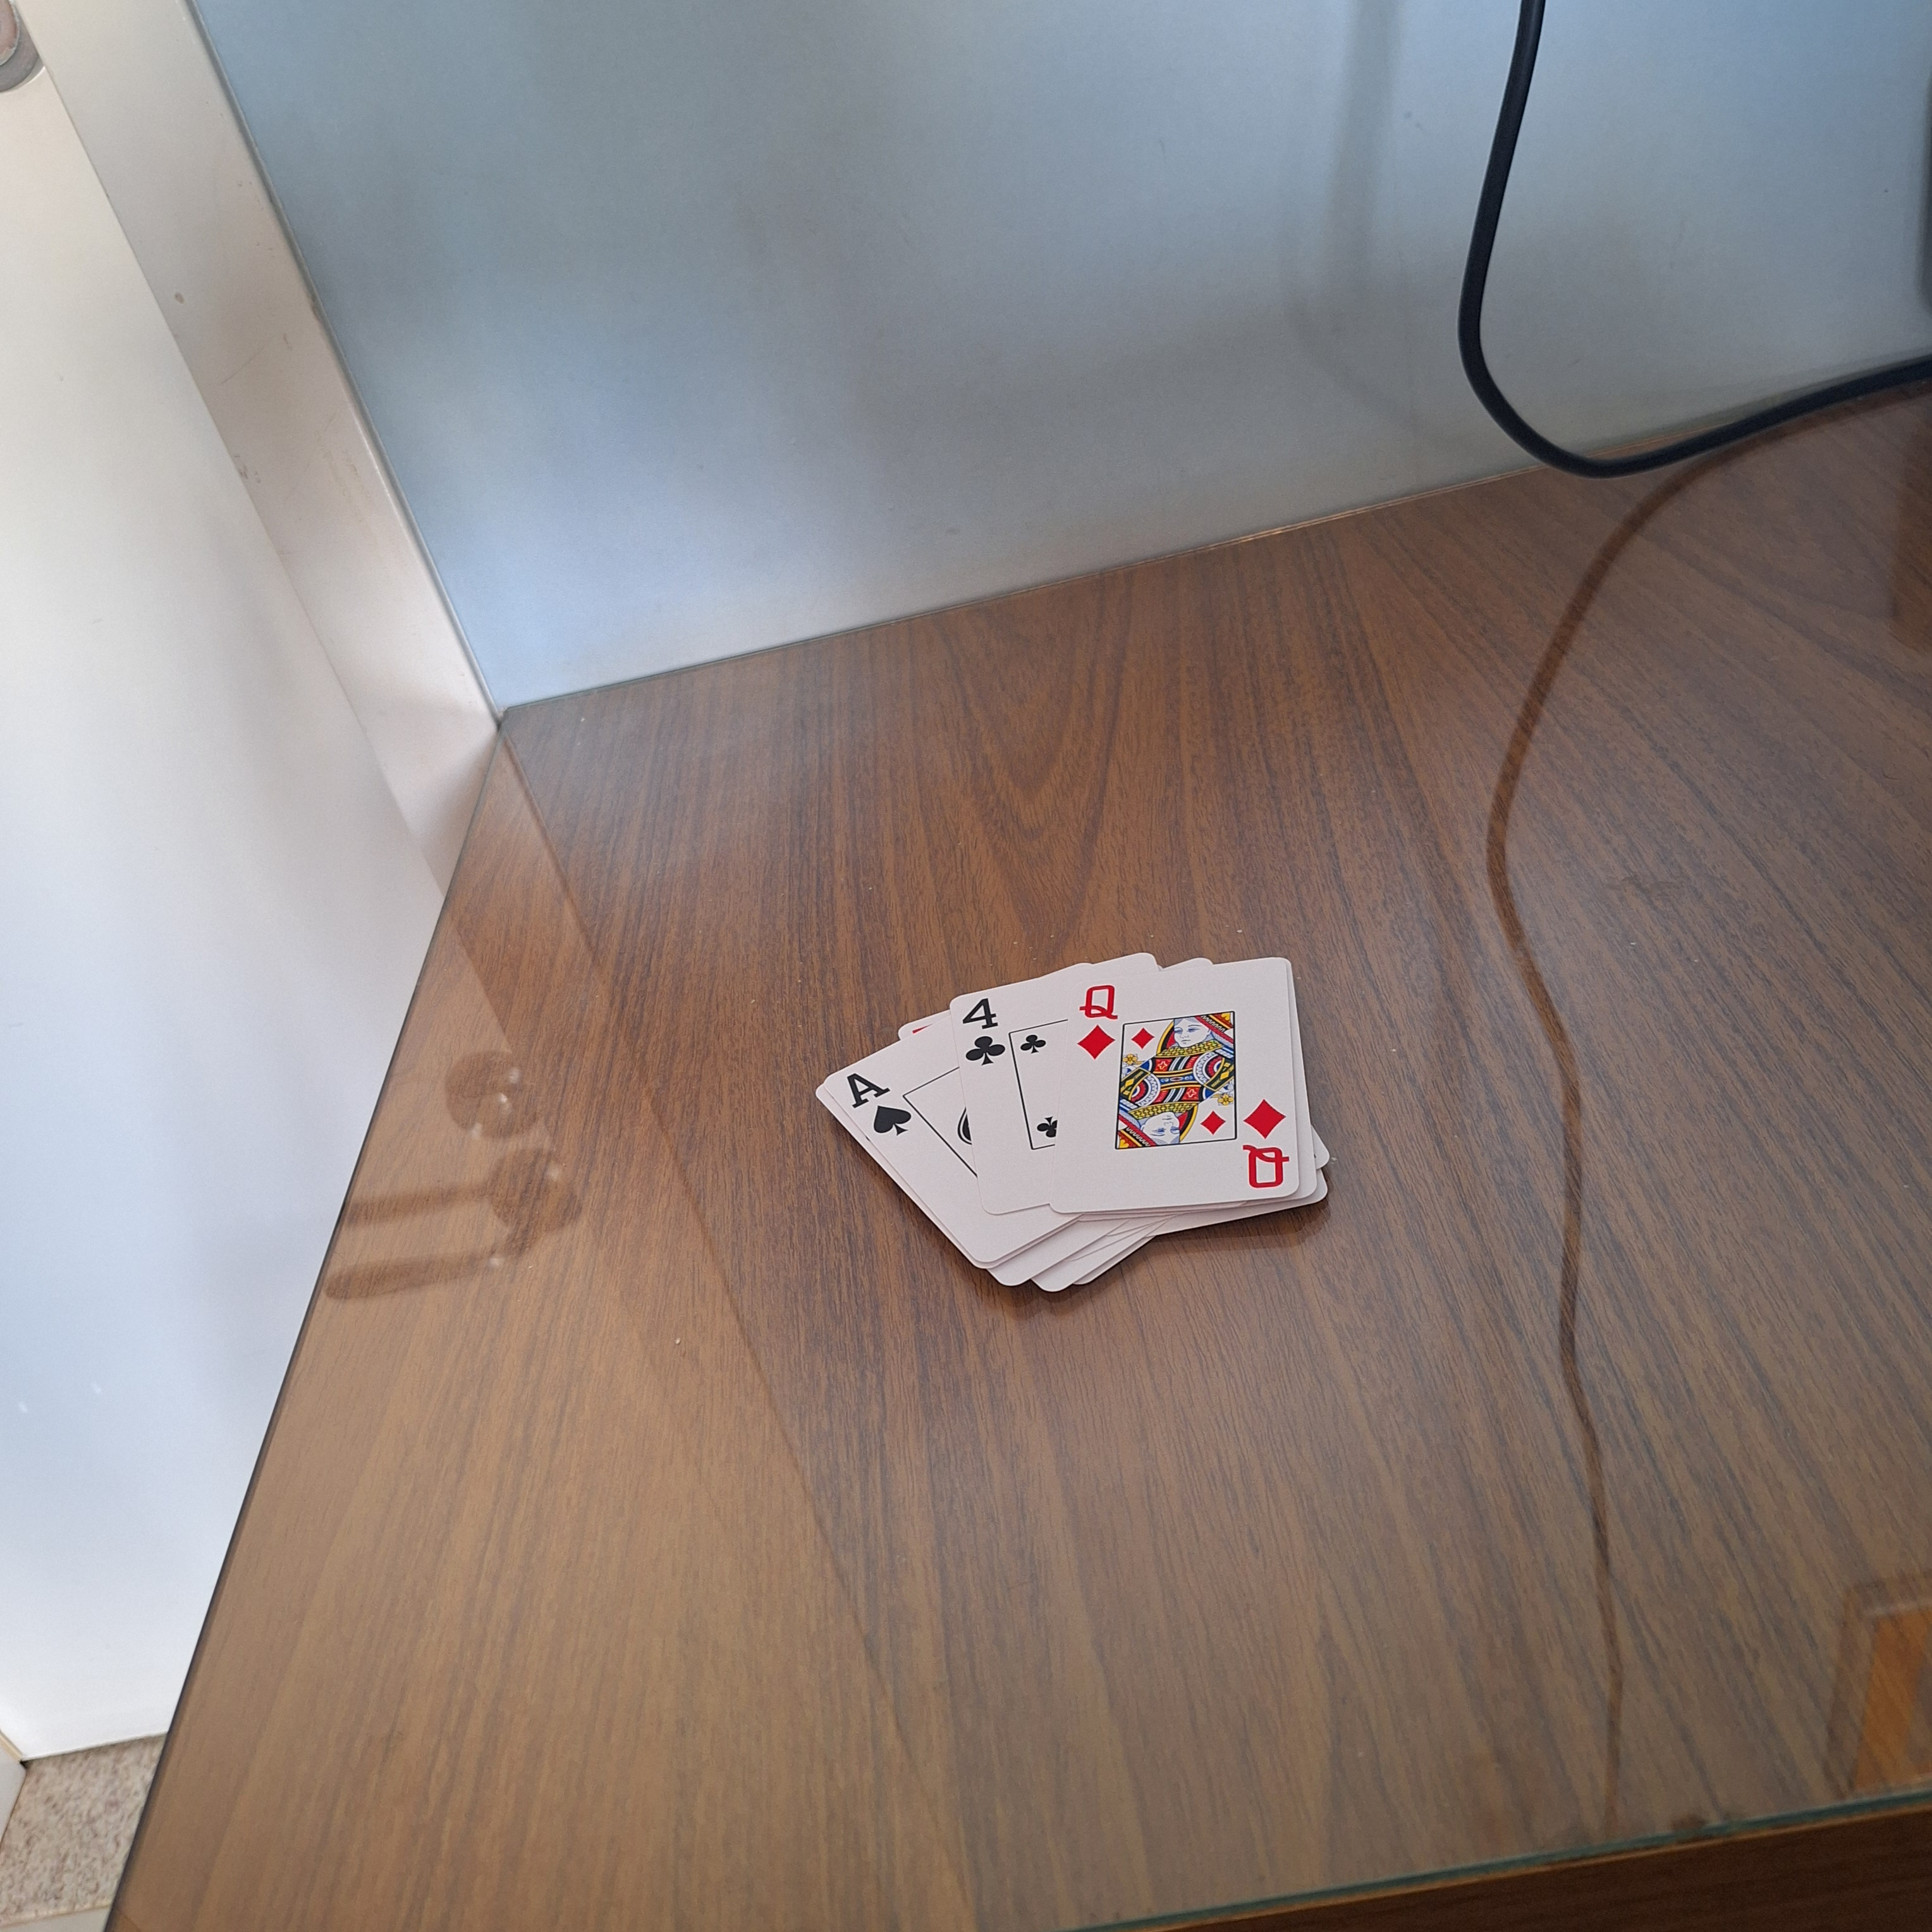4P: (955, 993, 1017, 1072)
AE: (837, 1062, 918, 1143)
QO: (1238, 1092, 1299, 1203), (1072, 978, 1122, 1067)
